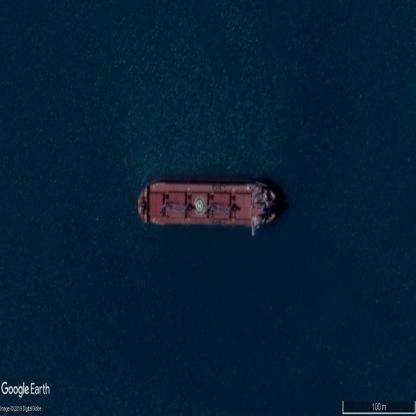ship: (138, 181, 275, 227)
